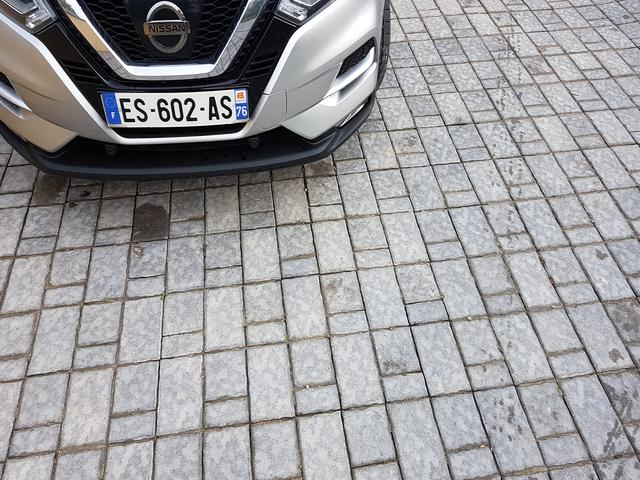Quashquai: (96, 80, 254, 132)
